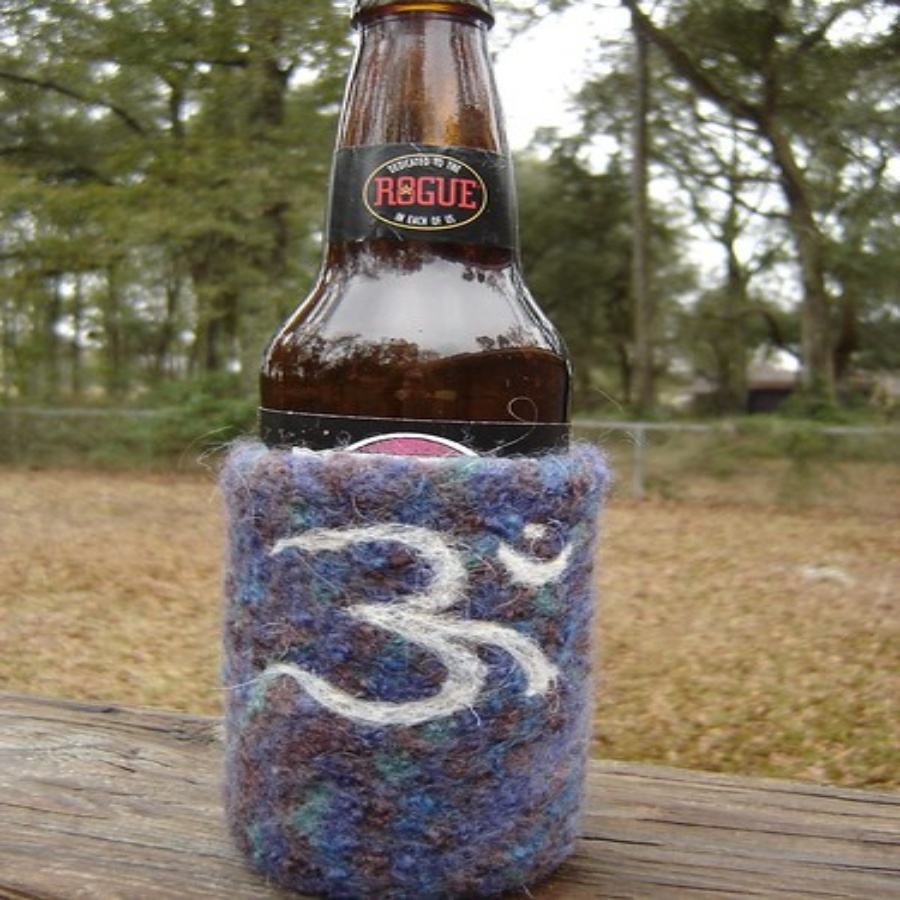beer: (233, 4, 596, 450)
